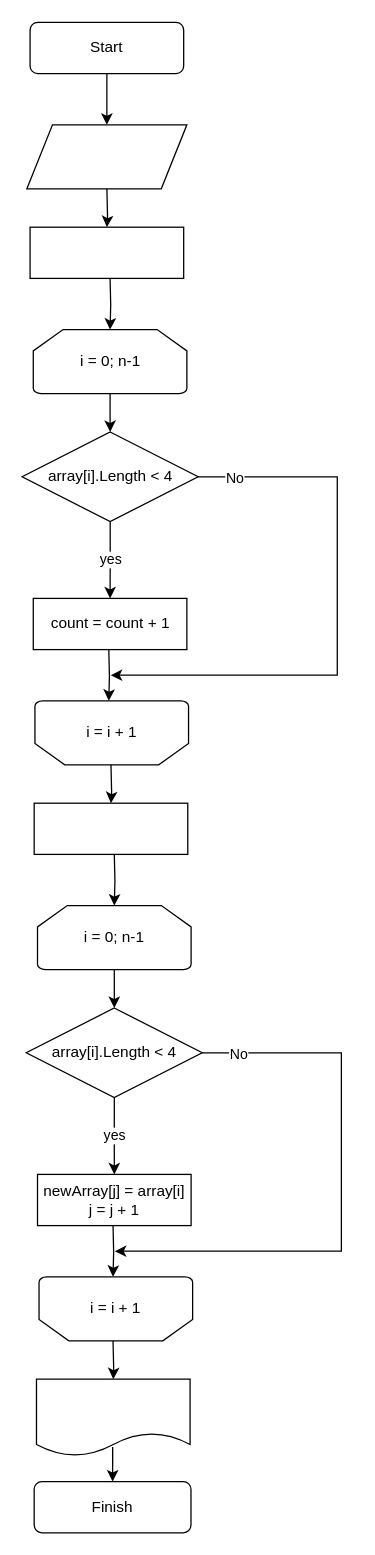
Some shapes in this 375 by 1555 pixel diagram are drawn without their labels. The centre of each missing label's shape, as x and y in pixels:
array[n]: point 106,156
array[n] newArray[count]: point 112,1417
count = 0: point 106,252
newArray[count] j = 0: point 110,828
